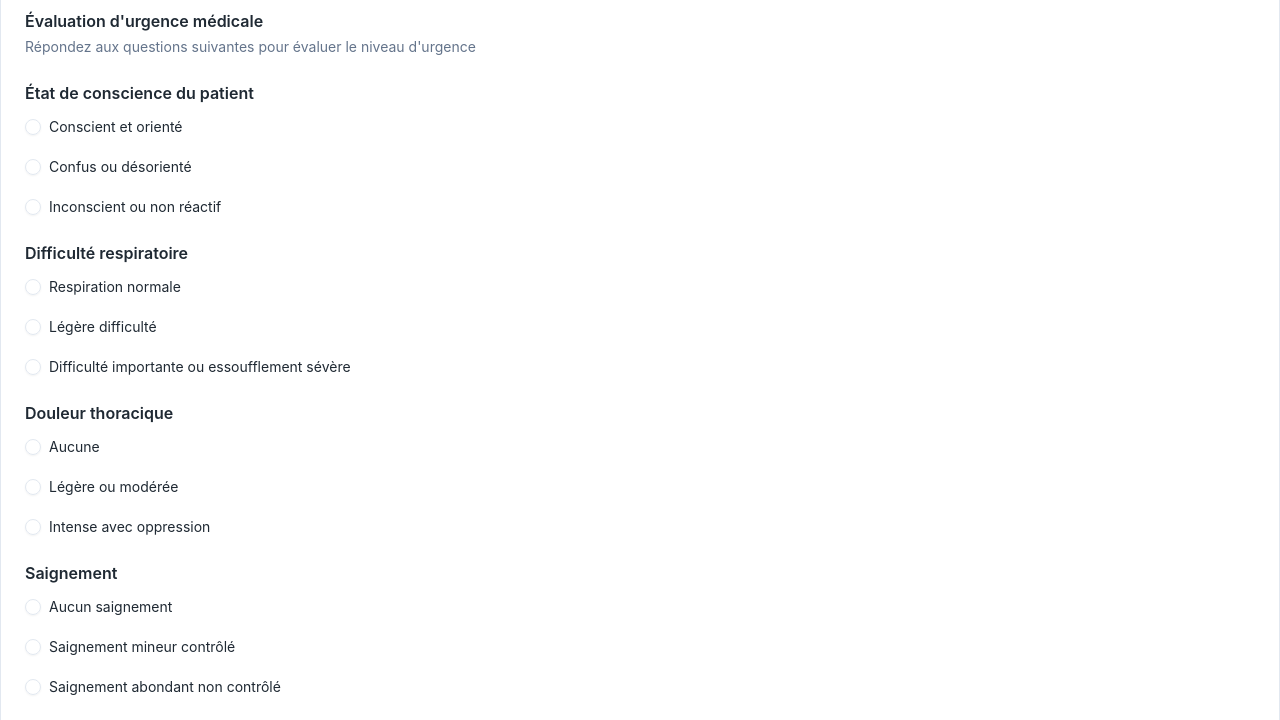
Test: questionnaire incomplet : les questions sans réponse sont signalées, rien n’est envoyé
Step 1. Click the radio button named "Conscient et orienté" next to "Conscient et orienté" → (33, 127), box 25,119 -> 41,135
(page scrolled)
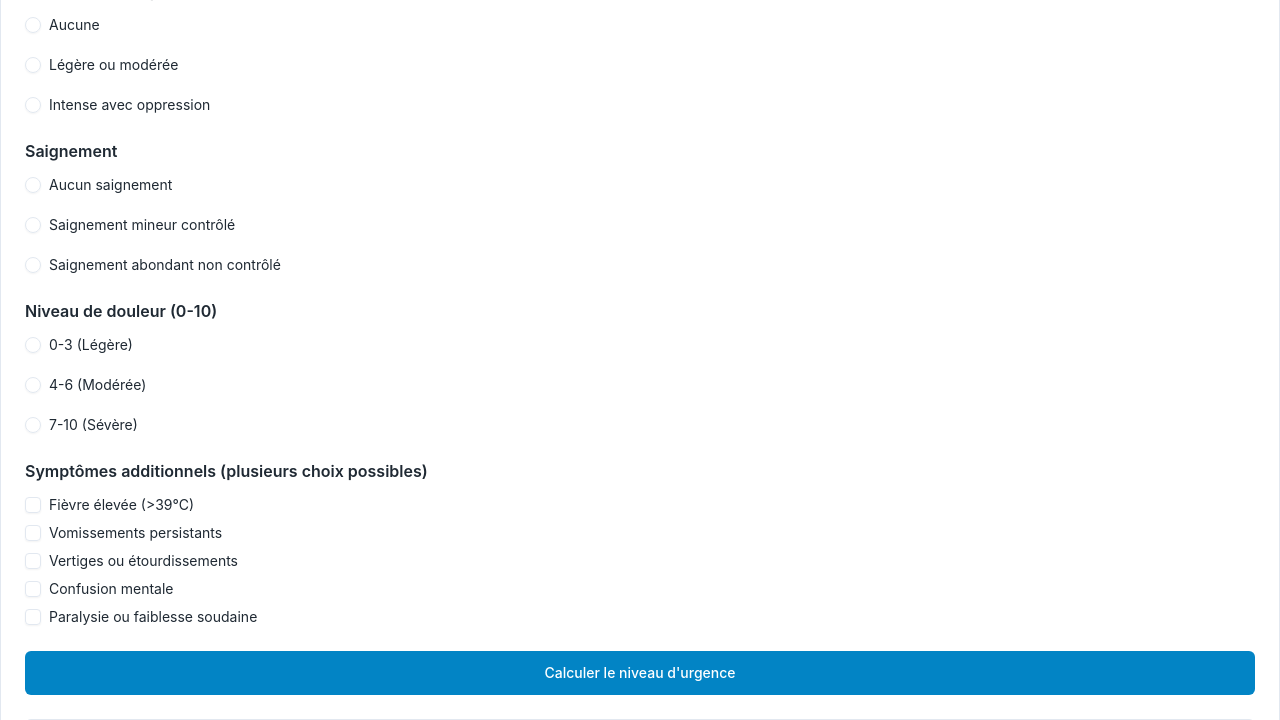
Step 2. Click the button "Calculer le niveau d'urgence" → (640, 673), box 25,651 -> 1255,695
(page scrolled)
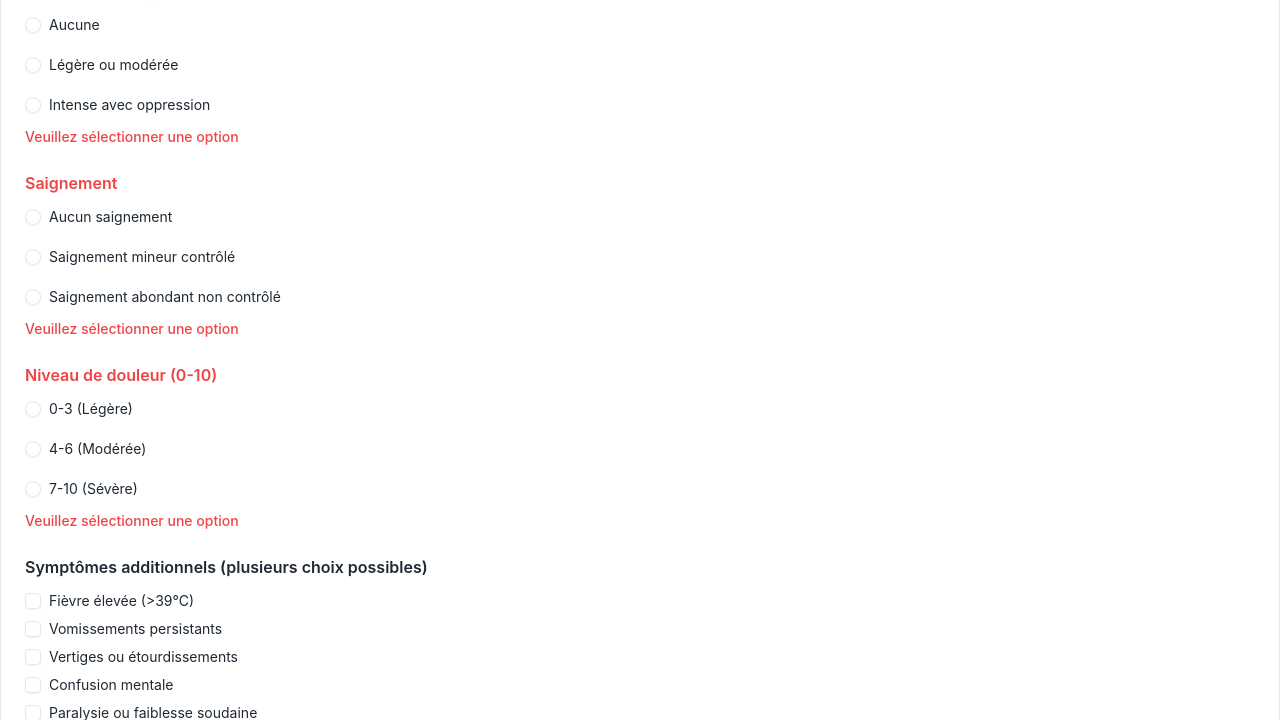
Result: the text "Veuillez sélectionner une option" is shown 4 times
